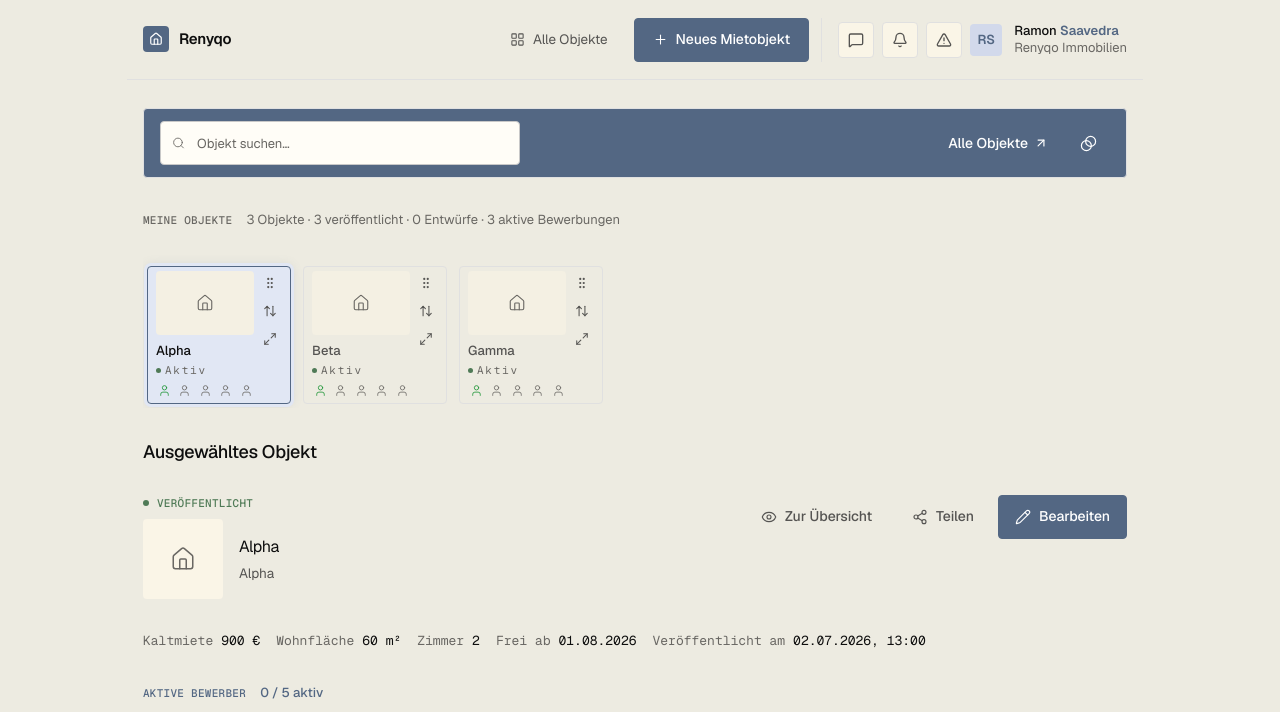
Test: DashboardView › reverts the listing order when the position update fails
The image size is (1280, 712).
Check: the text "Saavedra" is shown, box [1060,23,1119,39]
Click the button named "Position von Alpha ändern". click: click(270, 310)
box: [258,298,282,322]
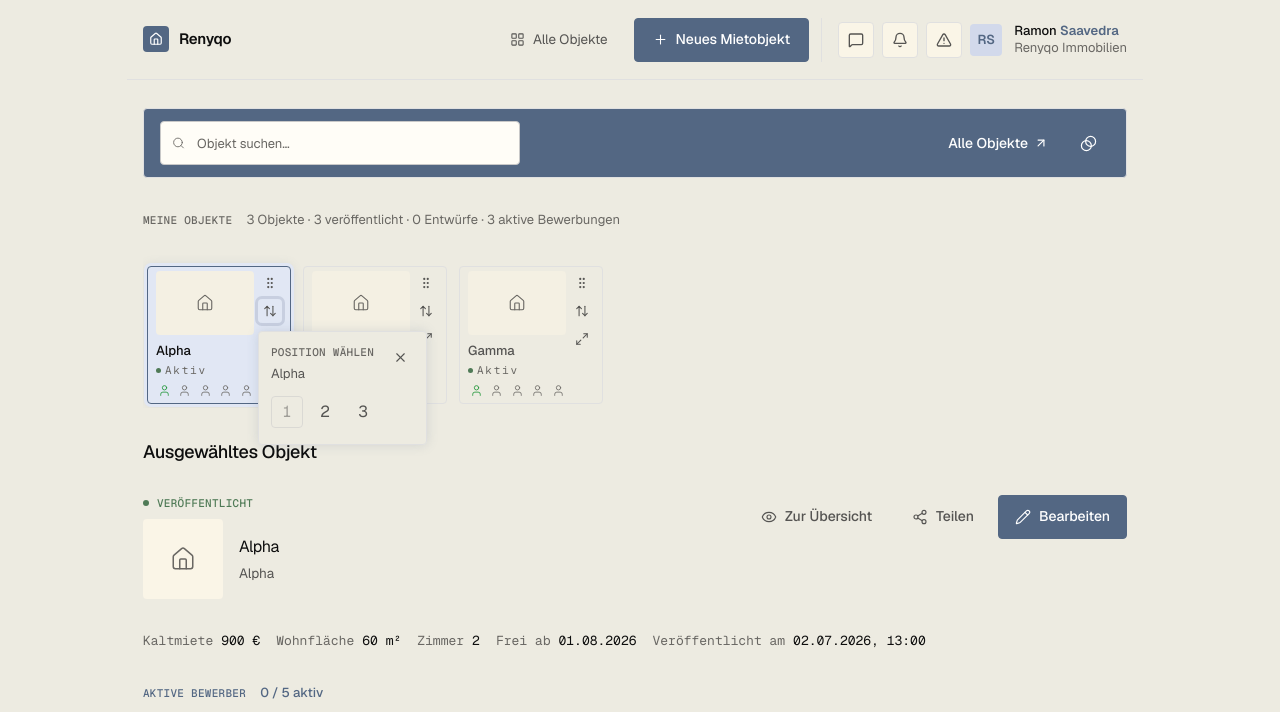
Click the button named "Auf Position 3 verschieben". click: click(363, 412)
box: [347,396,379,428]
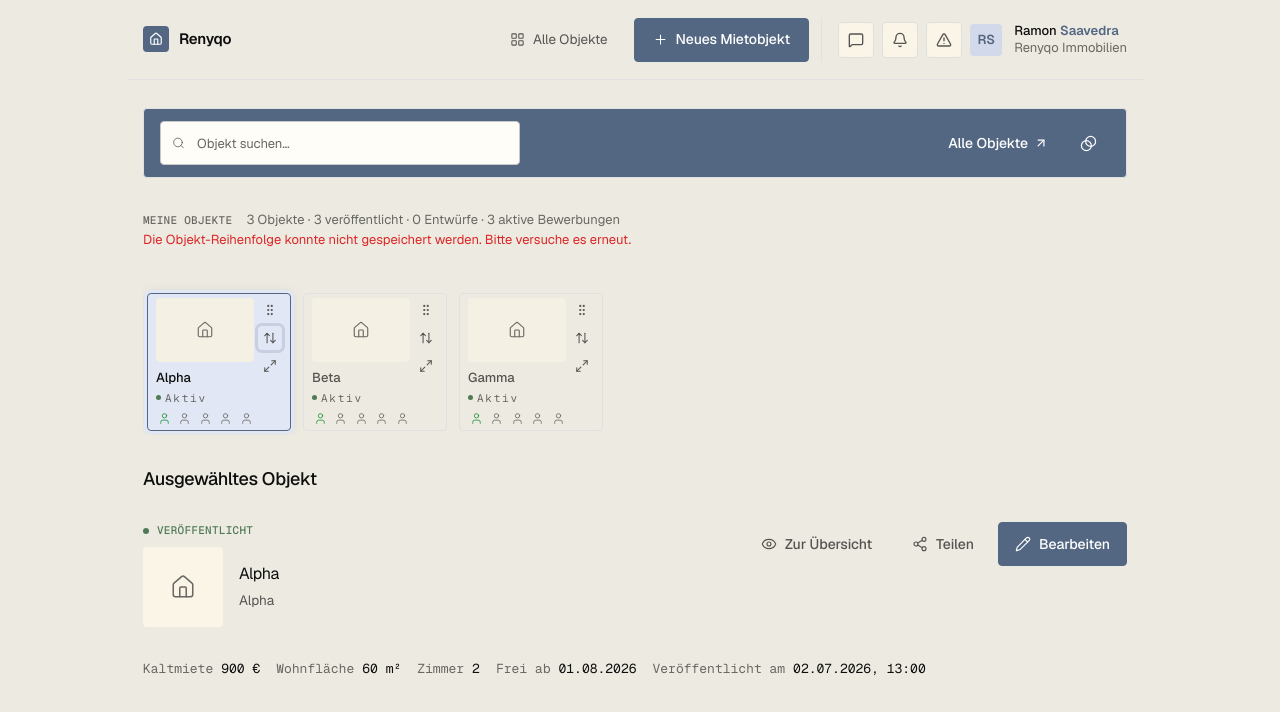
Check: the message shows "konnte nicht gespeichert werden", box [143,230,631,248]
